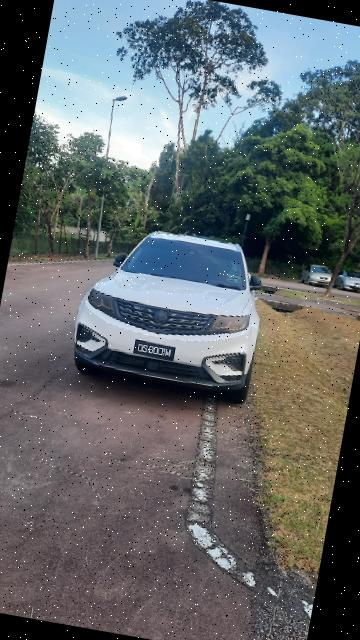License_Plate: (130, 337, 179, 368)
car: (66, 217, 275, 410)
